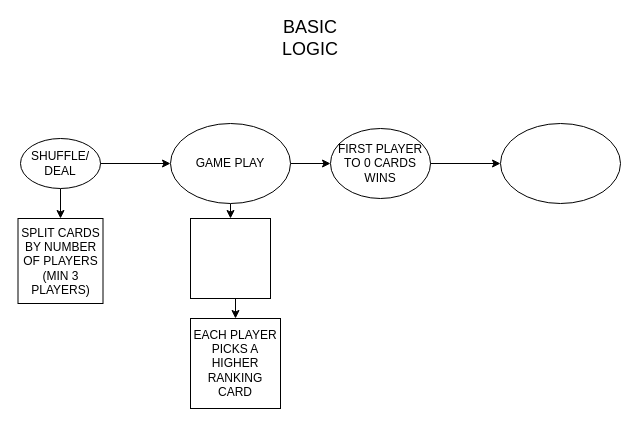
This 638x426 diagram has some shape labels left out. The box of each missing label's shape, as (x1, y1, x2, y2) in pixels:
GAME STARTS WITH WHO HAS 3 OF CLUBS: (190, 218, 270, 298)
LAST REMAINING PLAYER WITH CARDS LOSES: (500, 122, 620, 204)
